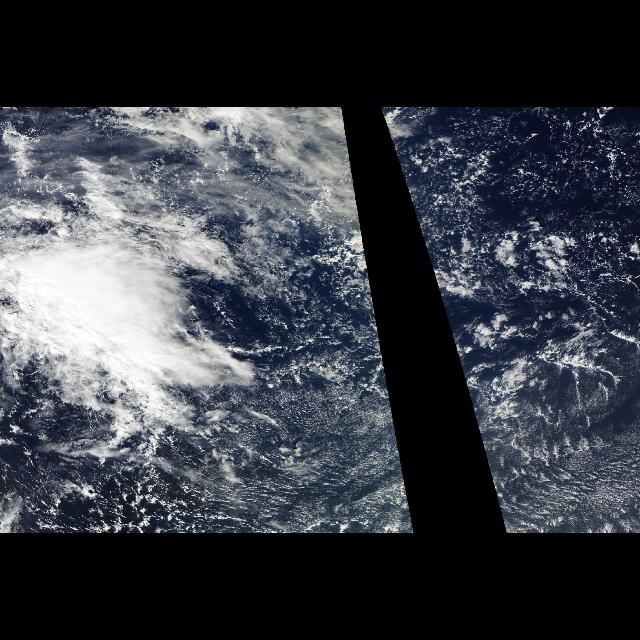Gravel: (402, 114, 640, 290)
Sugar: (229, 381, 417, 533), (464, 381, 640, 533)
